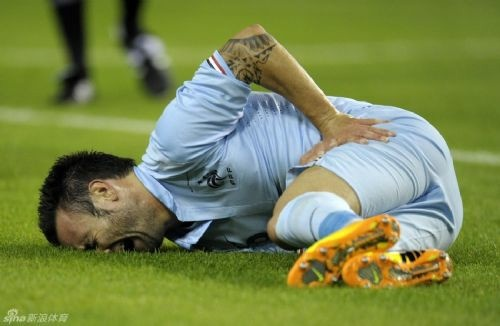falling: (27, 9, 477, 280)
